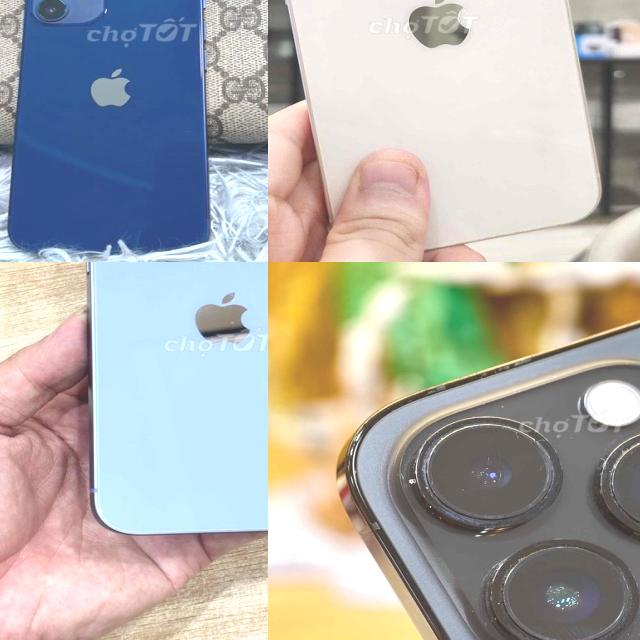gen_12_13: (268, 0, 608, 255), (10, 0, 238, 262)
gen_14: (312, 262, 640, 640), (65, 262, 268, 553)
scratch: (476, 556, 576, 640), (398, 438, 460, 520), (508, 410, 576, 452)
